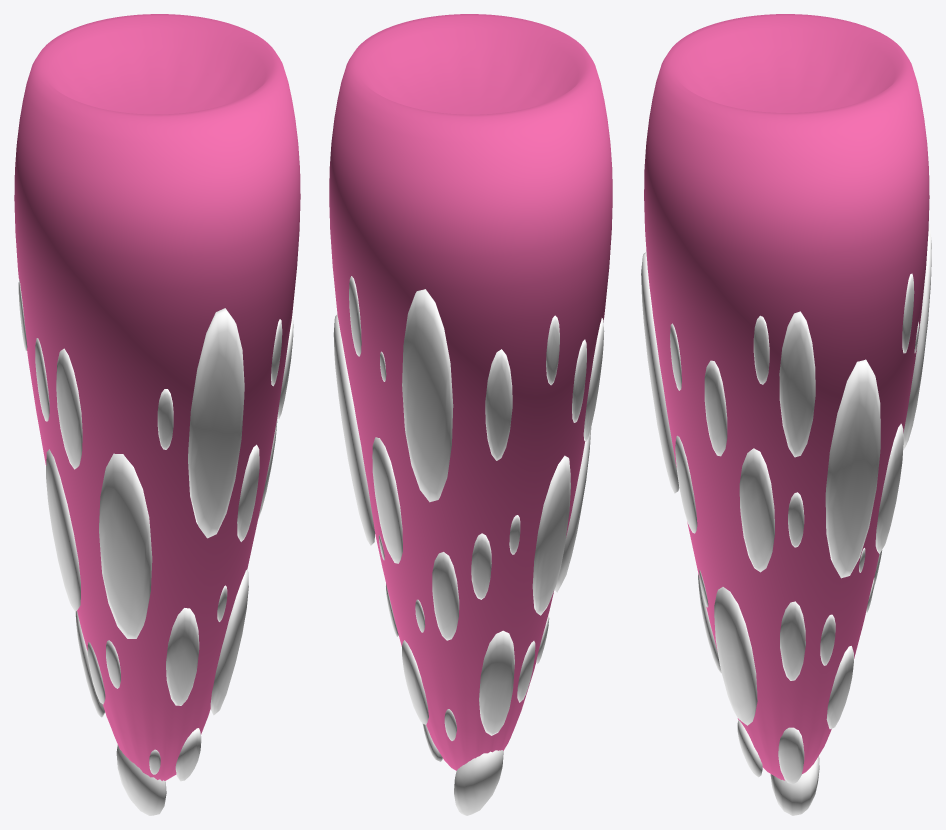
3 views of the same model, side by side, from view 1: azimuth 30°, elevation 25°; view 2: azimuth 150°, elevation 25°; view 3: azimuth 270°, elevation 25° (orthographic).
Parts seen in each view (by area): view 1: Circle.001; view 2: Circle.001; view 3: Circle.001.
Part boxes in pixels (box(x1,y1,x2,y2)): Circle.001: box(14, 14, 300, 815); Circle.001: box(329, 14, 612, 815); Circle.001: box(641, 14, 931, 815).
Bounding box in the file's own units: 20.19 × 58.59 × 20.56.
